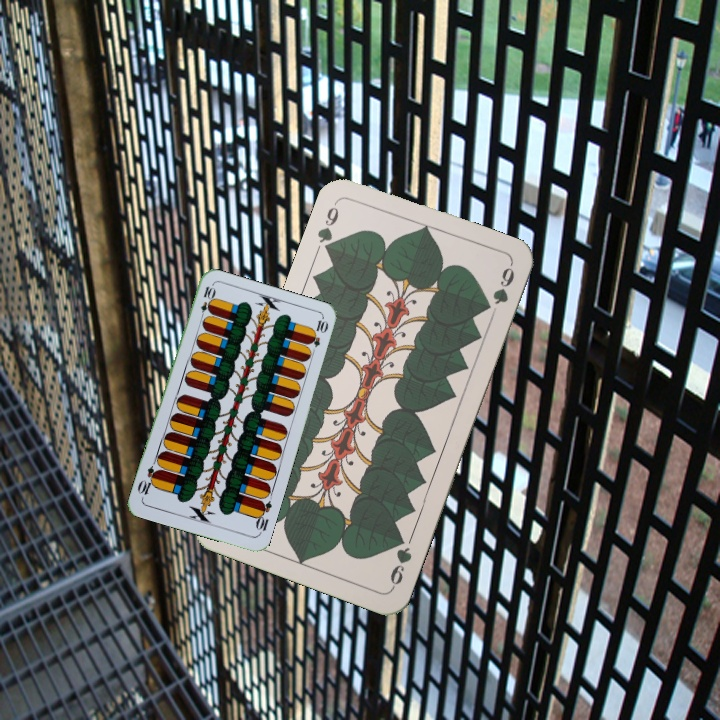E10: (251, 497, 275, 537), (196, 282, 216, 323)
G9: (386, 531, 415, 591), (313, 197, 341, 257)
